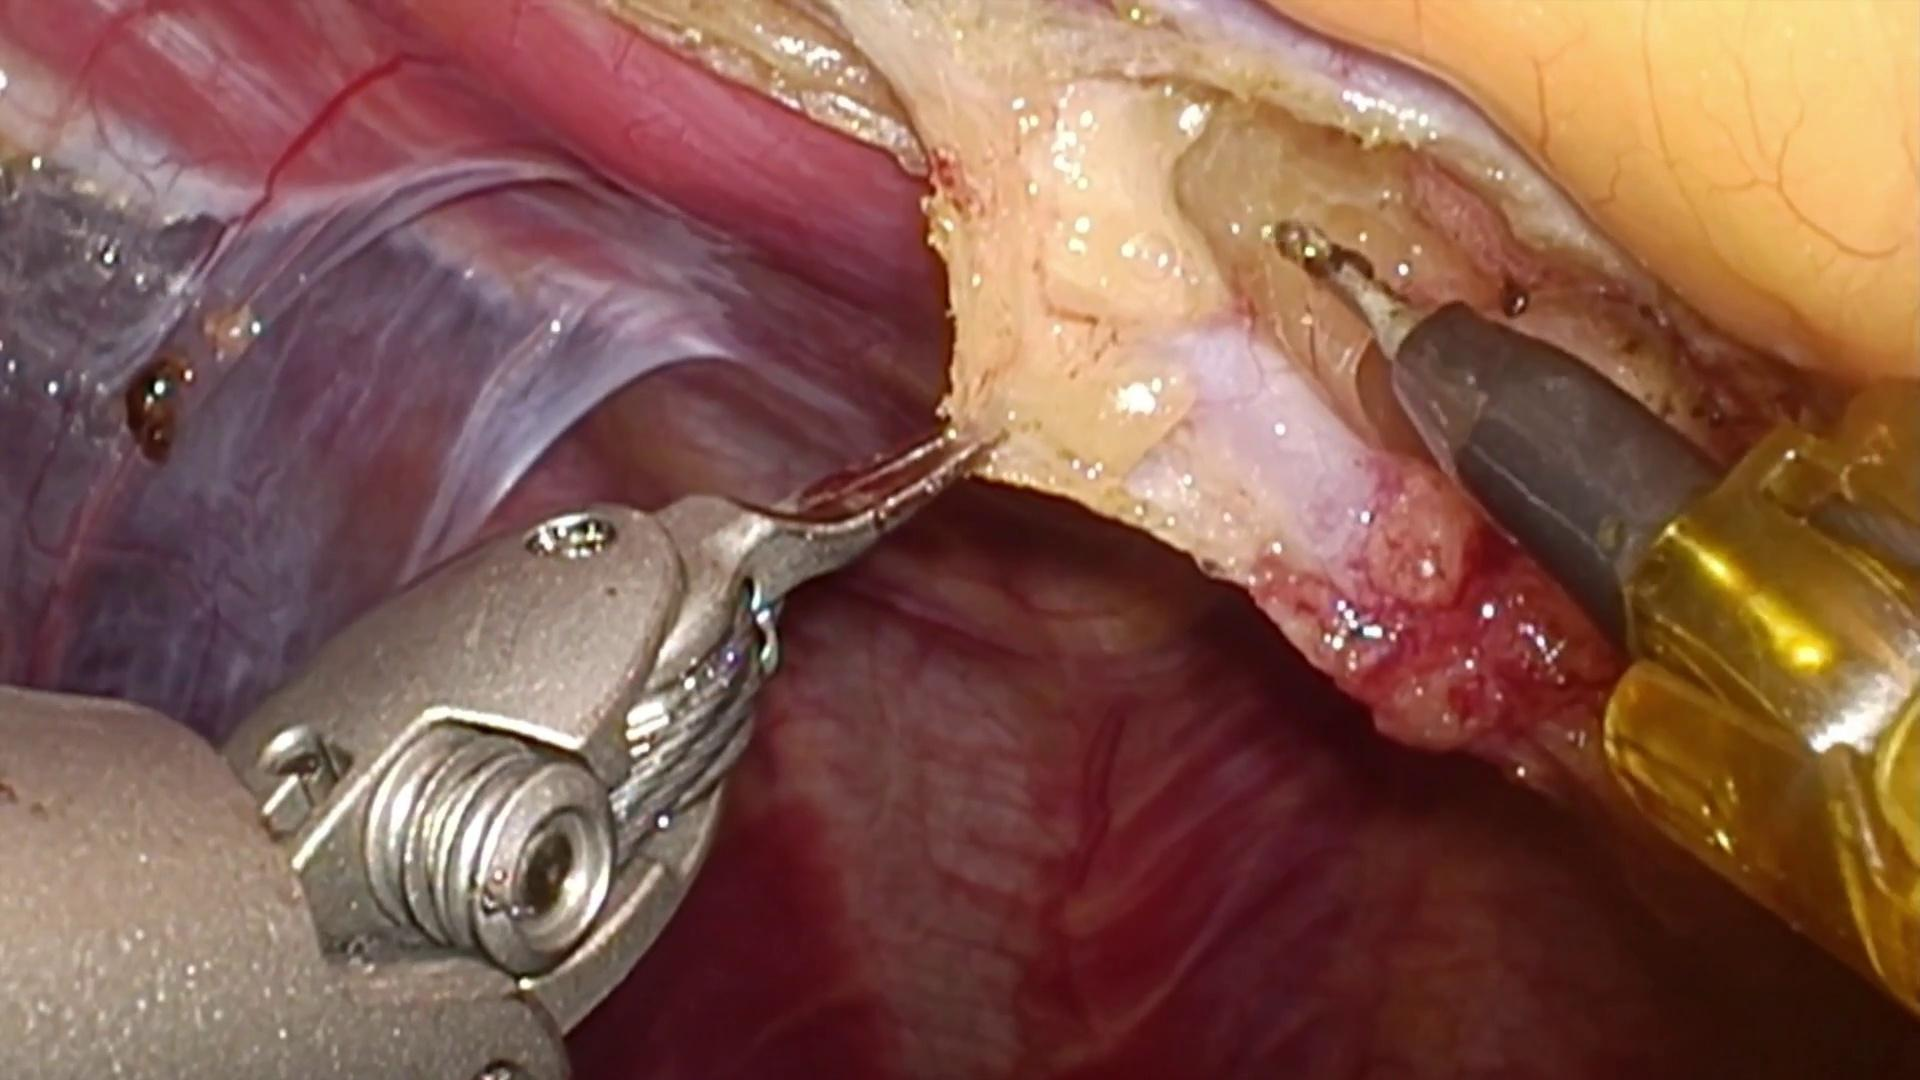Cautery_Spatula: (1288, 224, 1741, 673)
Debakey: (670, 376, 1019, 612)
